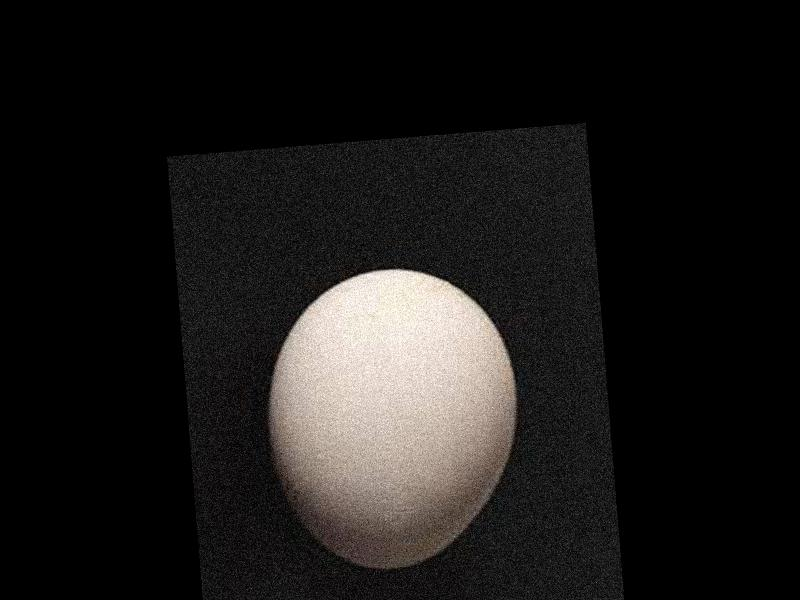Eggs: (259, 257, 528, 576)
